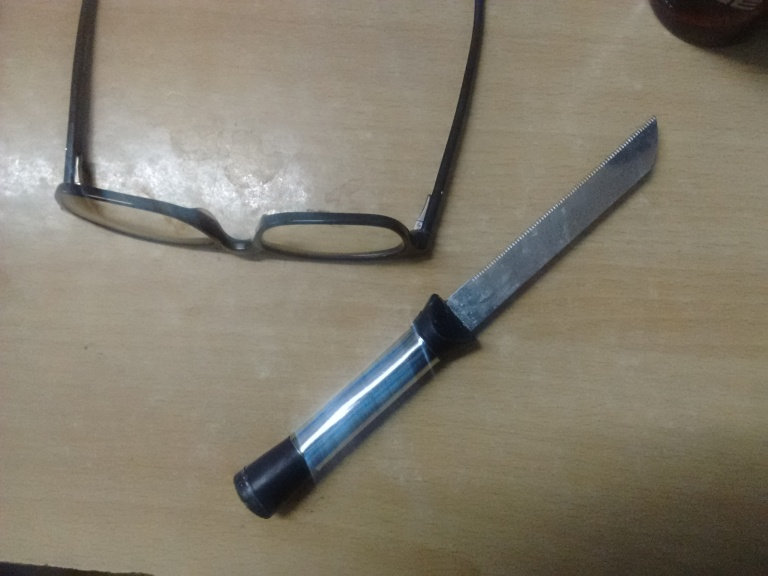knife: (231, 114, 657, 525)
